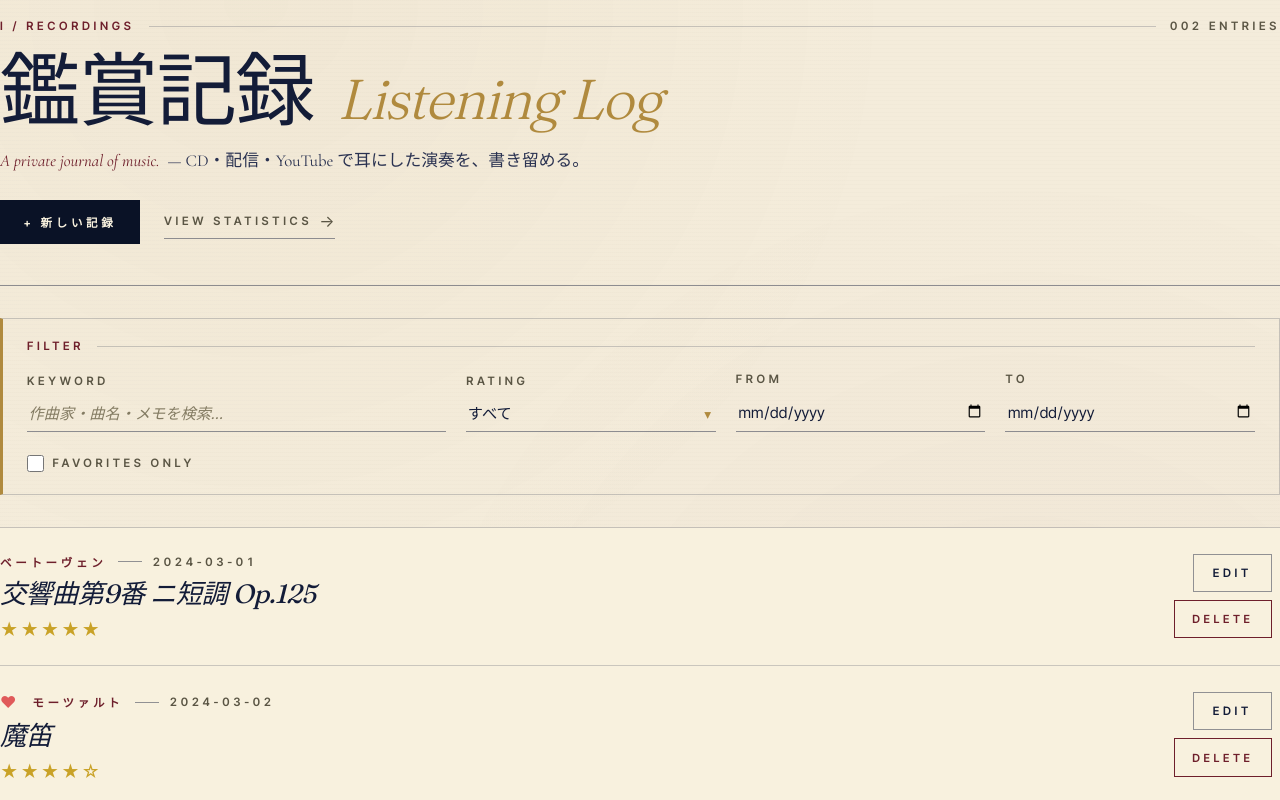
Test: ListeningLogsPage（検索フィルタ結合） › キーワードを入力すると一致しないログが除外される
Type "モーツァルト" into the field labelled "Keyword" at (237, 414), box 27,395 -> 446,432
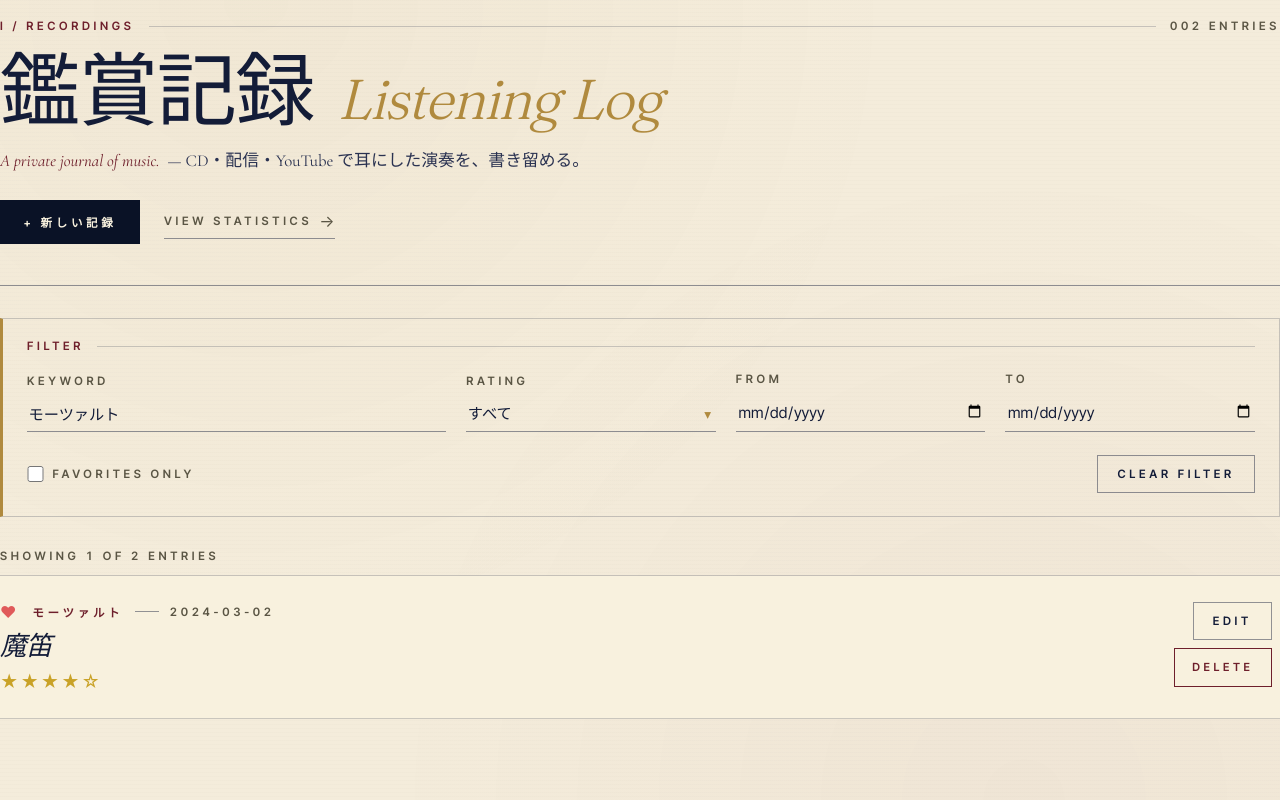
Expected: the number of buttons with class "btn-danger" is 1, 1174,648 -> 1272,687
Expected: the text "Showing 1 of 2 entries" is shown, 0,548 -> 219,562
